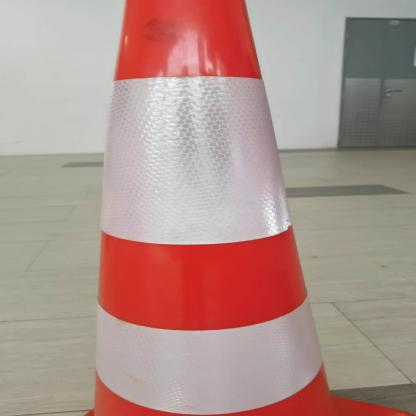cone: (29, 1, 411, 416)
